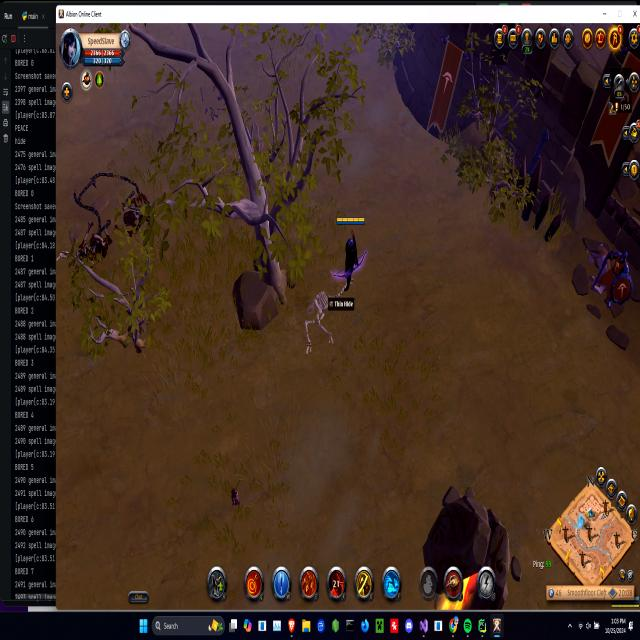red: (336, 213, 368, 288)
